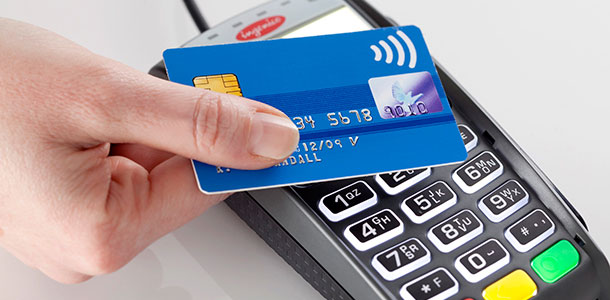tarjeta: (162, 24, 470, 199)
